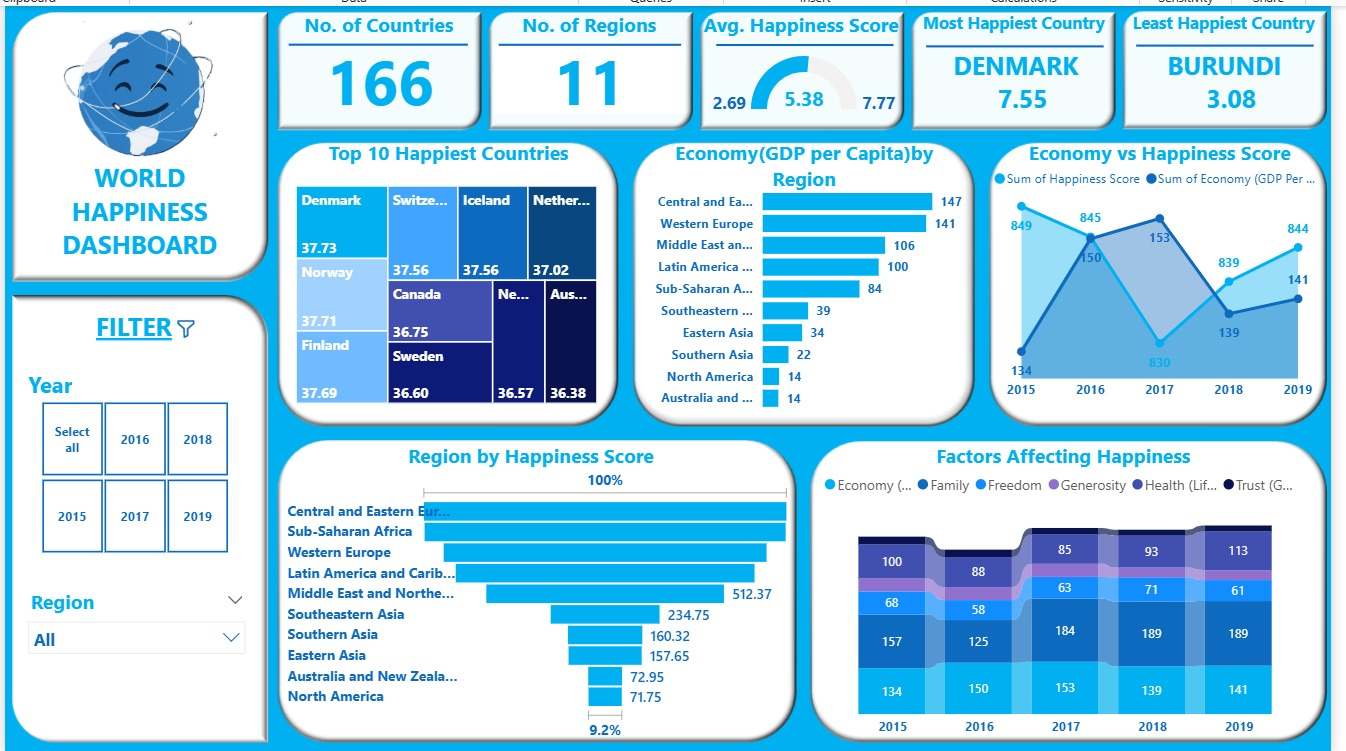

What the dashboard file says about the page in this screenshot:
{"tool":"powerbi","page":{"name":"World Happiness Dashboard","canvas":[1280,720],"ordinal":0},"visuals":[{"type":"image","box":[9.9,0,240.8,169],"z":0},{"type":"textbox","box":[9.9,145,240.8,109.8],"z":1000},{"type":"textbox","box":[9.9,288.7,229.5,42.2],"z":2000},{"type":"slicer","fields":{"Values":["World Happiness Data.Year"]},"box":[10.1,345.6,229.8,189.6],"z":3000},{"type":"slicer","fields":{"Values":["World Happiness Data.Region"]},"box":[11.7,556.9,229.8,87.2],"z":4000},{"type":"textbox","box":[276.8,0,169.4,36.9],"z":5000},{"type":"textbox","box":[471.4,0,184.5,36.9],"z":6000},{"type":"textbox","box":[655.9,0,224.8,36.9],"z":7000},{"type":"textbox","box":[293.6,124.1,270.1,45.3],"z":8000},{"type":"treemap","fields":{"Group":["World Happiness Data.Country"],"Values":["Sum(World Happiness Data.Happiness Score)"]},"box":[276.8,169.4,300.3,219.8],"z":9000},{"type":"textbox","box":[610.6,124.1,322.1,265],"z":10000},{"type":"barChart","fields":{"Category":["World Happiness Data.Region"],"Y":["Sum(World Happiness Data.Economy (GDP Per Capita))"]},"box":[610.6,159.4,372.4,241.6],"z":11000},{"type":"textbox","box":[276.8,416,463,38.6],"z":12000},{"type":"funnel","fields":{"Category":["World Happiness Data.Region"],"Y":["Sum(World Happiness Data.Happiness Score)"]},"box":[268.4,441.2,496.5,271.8],"z":13000},{"type":"card","fields":{"Values":["World Happiness Data.No.of Countries"]},"box":[296.9,36.9,130.8,65.4],"z":14000},{"type":"card","fields":{"Values":["World Happiness Data.No.of Regions"]},"box":[471.4,36.9,184.5,65.4],"z":15000},{"type":"shape","box":[273.4,10.1,172.8,55.4],"z":16000},{"type":"shape","box":[476.4,26.8,176.1,21.8],"z":17000},{"type":"shape","box":[686.1,21.8,171.1,31.9],"z":18000},{"type":"textbox","box":[880.7,0,186.2,38.6],"z":19000},{"type":"shape","box":[889.1,20.1,171.1,36.9],"z":20000},{"type":"textbox","box":[1083.7,0,196.3,36.9],"z":21000},{"type":"shape","box":[1092.1,18.5,171.1,40.3],"z":22000},{"type":"textbox","box":[983,124.1,280.1,276.8],"z":23000},{"type":"image","box":[115.7,265,117.4,92.3],"z":24000},{"type":"lineChart","fields":{"Category":["World Happiness Data.Year"],"Y":["Sum(World Happiness Data.Happiness Score)"],"Y2":["Sum(World Happiness Data.Economy (GDP Per Capita))"]},"box":[949.5,147.6,330.5,241.6],"z":25000},{"type":"card","fields":{"Values":["World Happiness Data.Most Happiest Country & Score"]},"box":[882.4,21.8,201.3,97.3],"z":26000},{"type":"card","fields":{"Values":["World Happiness Data.Least Country & Score"]},"box":[1090.4,28.5,186.2,83.9],"z":27000},{"type":"gauge","fields":{"Y":["World Happiness Data.Average Happiness Score"],"MaxValue":["World Happiness Data.MaxScore"],"MinValue":["World Happiness Data.MinScore"]},"box":[672.7,33.6,196.3,85.6],"z":28000},{"type":"textbox","box":[894.1,416,288.5,35.2],"z":29000},{"type":"columnChart","fields":{"Category":["World Happiness Data (2).Year"],"Series":["World Happiness Data (2).Factors"],"Y":["Sum(World Happiness Data (2).Contribution)"]},"box":[785.1,441.2,478.1,271.8],"z":30000}]}

Visuals, with their boxes in screenshot pixels (x1, y1, x2, y2):
image: 0/0/243/152
textbox: 0/126/243/243
textbox: 0/279/230/324
slicer - World Happiness Data.Year: 0/340/231/542
slicer - World Happiness Data.Region: 0/565/233/658
textbox: 270/0/451/11
textbox: 478/0/674/11
textbox: 674/0/914/11
textbox: 288/104/576/152
treemap - World Happiness Data.Country x Sum(World Happiness Data.Happiness Score): 270/152/590/387
textbox: 626/104/969/386
barChart - World Happiness Data.Region x Sum(World Happiness Data.Economy (GDP Per Capita)): 626/142/1023/399
textbox: 270/415/763/456
funnel - World Happiness Data.Region x Sum(World Happiness Data.Happiness Score): 261/442/790/731
card - World Happiness Data.No.of Countries: 292/11/431/81
card - World Happiness Data.No.of Regions: 478/11/674/81
shape: 267/0/451/42
shape: 483/1/670/24
shape: 706/0/889/29
textbox: 914/0/1112/13
shape: 923/0/1105/33
textbox: 1130/0/1339/11
shape: 1139/0/1321/35
textbox: 1023/104/1321/399
image: 99/254/224/353
lineChart - World Happiness Data.Year x Sum(World Happiness Data.Happiness Score): 987/129/1339/387
card - World Happiness Data.Most Happiest Country & Score: 915/0/1130/99
card - World Happiness Data.Least Country & Score: 1137/2/1335/92
gauge - World Happiness Data.Average Happiness Score x World Happiness Data.MaxScore: 692/8/901/99
textbox: 928/415/1235/453
columnChart - World Happiness Data (2).Year x World Happiness Data (2).Factors: 812/442/1321/731
